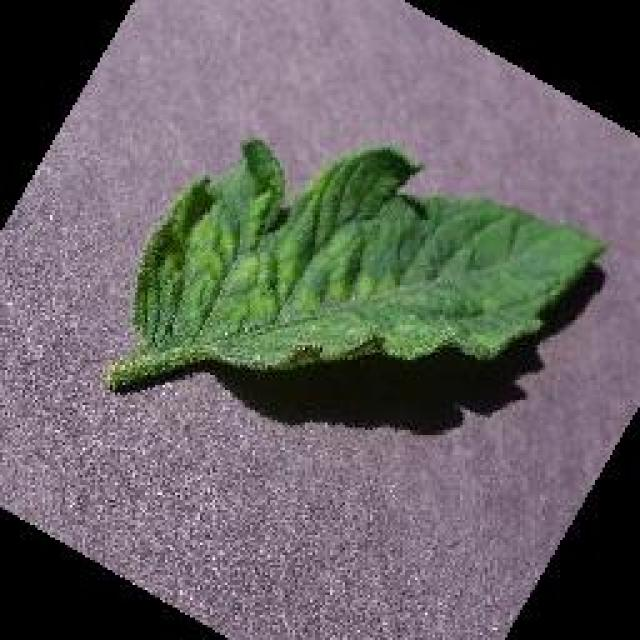Tomato___Tomato_mosaic_virus: (110, 140, 602, 385)
